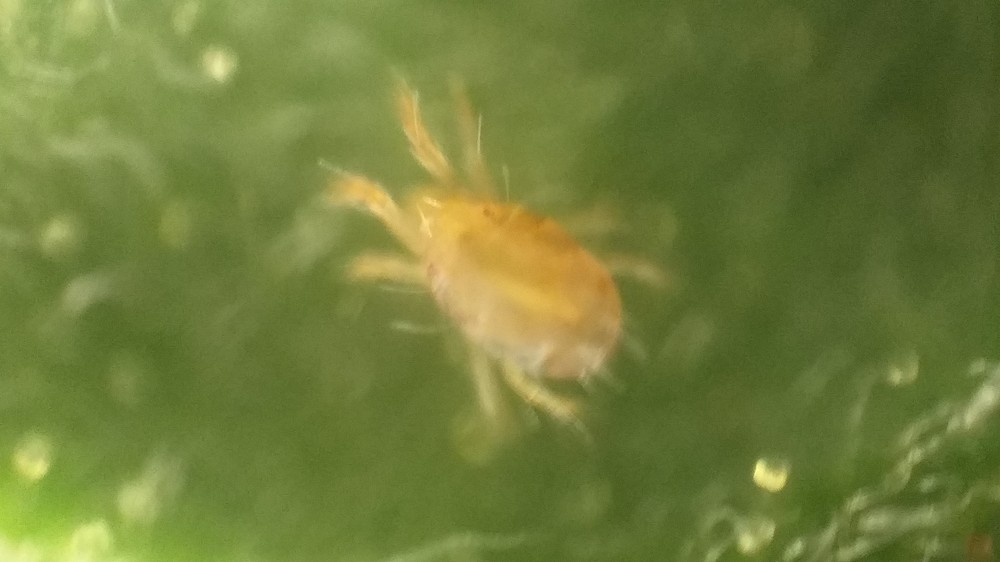Aracnido Rojo: (294, 69, 696, 451)
